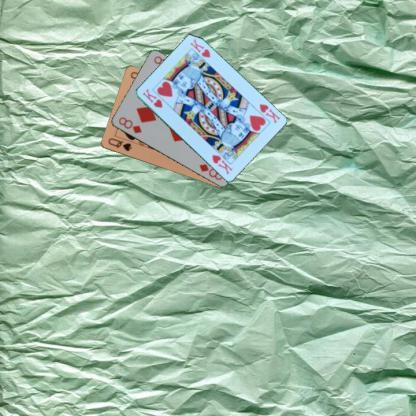8d: (116, 114, 142, 134)
Kh: (257, 101, 282, 125), (140, 86, 164, 109)
Qs: (105, 135, 133, 153)
